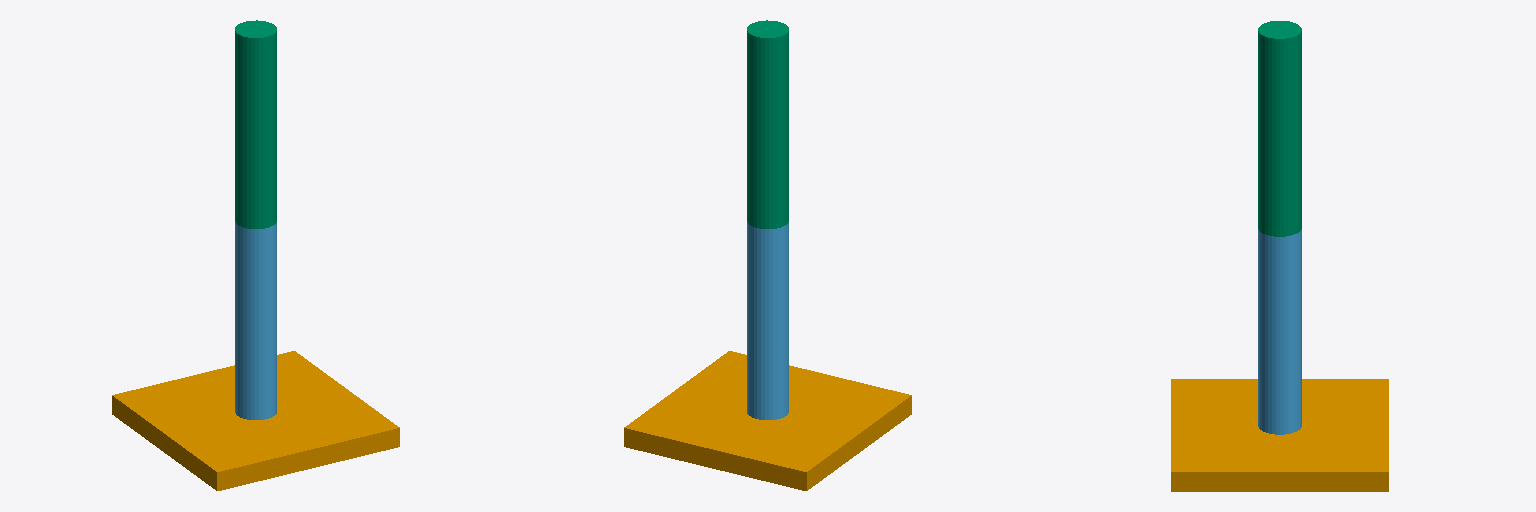
The robot description file, URDF, robot "DoublePendulum":
<?xml version="1.0" ?>
<robot name="DoublePendulum">
  <link name="Box">
    <inertial>
      <origin xyz="0 0 0" rpy="0 0 0"/>
      <mass value="0"/>
      <inertia ixx="0" ixy="0" ixz="0" iyy="0" iyz="0" izz="0"/>
    </inertial>
    <visual>
      <origin xyz="0 0 -0.05" rpy="0 0 0"/>
      <geometry>
        <box size="1 1 0.1" />
      </geometry>
    </visual>
  </link>
  <link name="Link1">
    <inertial>
      <origin xyz="0 0 0.5" rpy="0 0 0"/>
      <mass value="1"/>
      <inertia ixx="0" ixy="0" ixz="0.0" iyy="0" iyz="0.0" izz="0"/>
    </inertial>
    <visual>
      <origin xyz="0 0 0.5" rpy="0 0 0"/>
      <geometry>
        <cylinder radius="0.1" length="1"/>
      </geometry>
    </visual>
  </link>
  <link name="Link2">
    <inertial>
      <origin xyz="0 0 0.5" rpy="0 0 0"/>
      <mass value="1"/>
      <inertia ixx="0" ixy="0" ixz="0.0" iyy="0" iyz="0.0" izz="0"/>
    </inertial>
    <visual>
      <origin xyz="0 0 0.5" rpy="0 0 0"/>
      <geometry>
        <cylinder radius="0.1" length="1"/>
      </geometry>
    </visual>
  </link>
  <joint name="BoxLink1" type="continuous">
    <origin xyz="0 0 0" rpy="0 0 0"/>
    <axis xyz="1.0 0.0 0.0"/>
    <parent link="Box"/>
    <child link="Link1"/>
  </joint>
  <joint name="Link1Link2" type="continuous">
    <origin xyz="0 0 1" rpy="0 0 0"/>
    <axis xyz="1.0 0.0 0.0"/>
    <parent link="Link1"/>
    <child link="Link2"/>
  </joint>
</robot>

--- What the picture shows (computed from the rendered views, not written in the file) ---
Views: 3 orthographic renders of the robot side by side, from view 1: azimuth 30°, elevation 25°; view 2: azimuth 150°, elevation 25°; view 3: azimuth 270°, elevation 25°.
Robot: DoublePendulum — 3 links, 2 joints (2 continuous); root link Box; default pose: all joints at 0.
Visible links, largest first — view 1: Box, Link2, Link1; view 2: Box, Link2, Link1; view 3: Box, Link2, Link1.
Boxes of the visible links, bbox=[...] form: Box: bbox=[112, 351, 399, 490]; Link2: bbox=[235, 20, 276, 228]; Link1: bbox=[235, 222, 276, 419]; Box: bbox=[624, 351, 911, 490]; Link2: bbox=[747, 20, 788, 228]; Link1: bbox=[747, 222, 788, 419]; Box: bbox=[1171, 379, 1388, 491]; Link2: bbox=[1258, 21, 1301, 236]; Link1: bbox=[1258, 229, 1301, 434].
Size in the robot's own frame: 1 by 1 by 2.1 metres.
Geometry: primitives only (box / cylinder / sphere), no mesh files.
